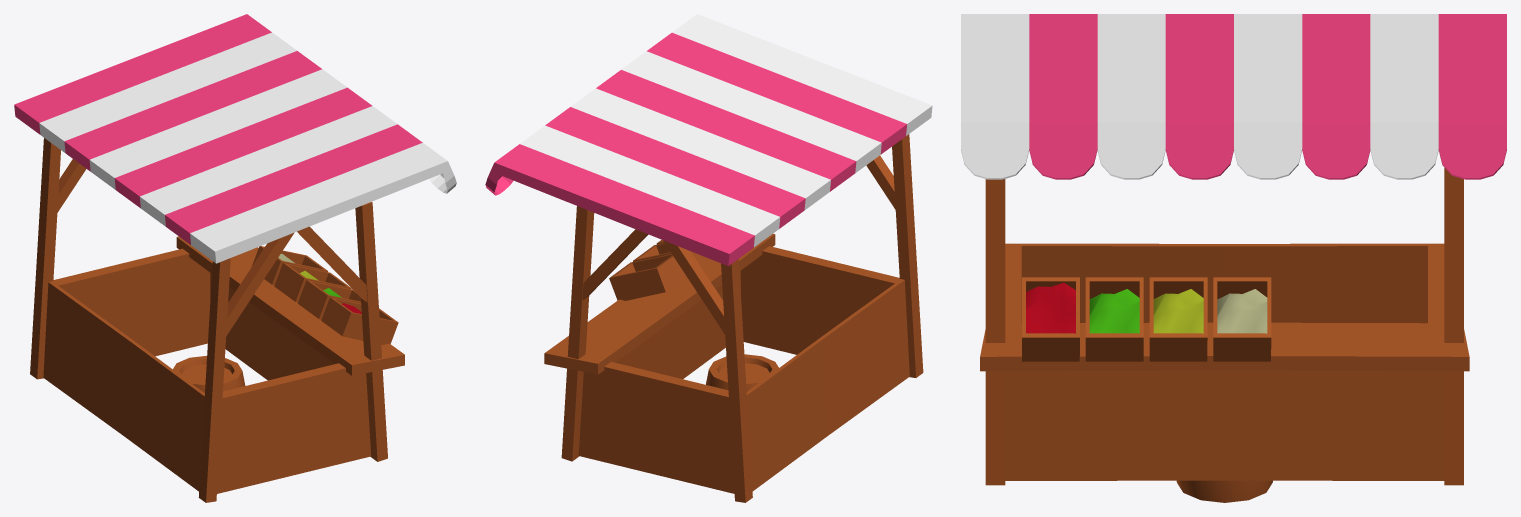
Rendered from Marche.fbx.
The picture shows the model from 3 angles, left to right: view 1: azimuth 30°, elevation 25°; view 2: azimuth 150°, elevation 25°; view 3: azimuth 270°, elevation 25°; orthographic projection. The views are drawn at different scales.
Visible parts, largest first — view 1: Cube.017, Plane.001, Cube.018, Cube.019, Cylinder.005; view 2: Cube.017, Plane.001, Cube.018, Cube.019, Cylinder.005; view 3: Plane.001, Cube.017, Cube.018, Cube.019, Cube.020, Cube.023, Cube.021, Cube.022, Cylinder.005.
Boxes of the visible parts, x1,y1,x2,y2 form: Cube.017: [30, 138, 387, 502]; Plane.001: [14, 14, 456, 263]; Cube.018: [176, 236, 404, 375]; Cube.019: [251, 246, 398, 344]; Cylinder.005: [173, 355, 245, 392]; Cube.017: [561, 134, 923, 502]; Plane.001: [485, 14, 932, 266]; Cube.018: [544, 233, 775, 374]; Cube.019: [609, 240, 710, 300]; Cylinder.005: [706, 354, 778, 391]; Plane.001: [961, 14, 1506, 179]; Cube.017: [985, 167, 1463, 485]; Cube.018: [980, 322, 1469, 371]; Cube.019: [1022, 277, 1271, 361]; Cube.020: [1026, 282, 1075, 333]; Cube.023: [1217, 289, 1267, 333]; Cube.021: [1089, 289, 1139, 333]; Cube.022: [1153, 289, 1203, 333]; Cylinder.005: [1176, 480, 1272, 502].
Bounding box in the file's own units: 186 × 242 × 263.
